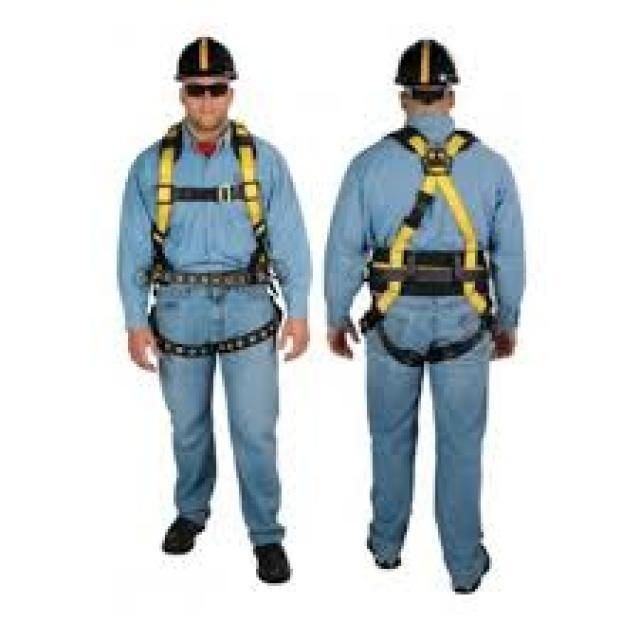Arnes_seguridad: (145, 116, 286, 365), (357, 118, 495, 372)
